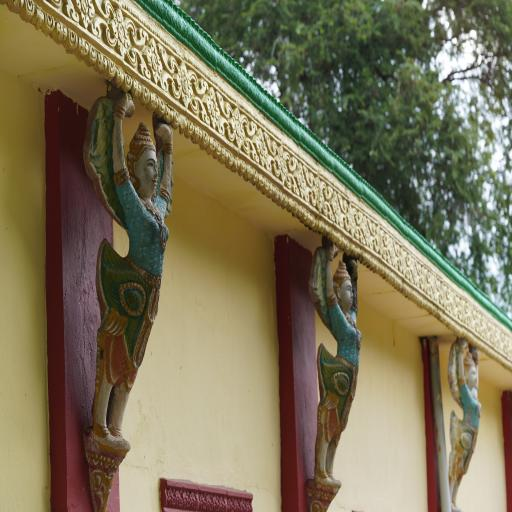hoa: (110, 7, 131, 59), (143, 35, 164, 85), (174, 59, 194, 109), (203, 84, 221, 128), (230, 106, 246, 150), (252, 126, 269, 166), (74, 0, 94, 29), (276, 144, 288, 183), (295, 160, 307, 199), (330, 190, 342, 224), (313, 177, 324, 211), (347, 202, 356, 236)
la: (124, 17, 149, 48), (127, 46, 151, 78), (157, 42, 180, 74), (93, 15, 116, 46), (187, 68, 209, 98), (216, 88, 236, 120), (160, 69, 180, 99), (190, 94, 210, 124), (217, 116, 236, 143), (243, 136, 260, 164), (94, 0, 116, 19), (264, 131, 280, 156), (42, 9, 55, 39), (242, 114, 257, 138), (53, 18, 66, 45), (104, 53, 116, 82), (63, 0, 78, 23), (66, 27, 78, 55), (266, 153, 280, 177), (286, 172, 300, 196), (20, 0, 34, 23), (76, 34, 88, 60), (285, 149, 298, 173), (33, 4, 44, 32), (86, 42, 97, 67), (322, 200, 335, 221), (338, 193, 351, 214), (114, 66, 124, 92), (8, 0, 24, 16), (321, 180, 333, 201), (132, 77, 142, 102), (149, 89, 159, 114), (155, 96, 166, 118), (304, 166, 316, 186), (96, 51, 106, 74), (163, 101, 173, 124), (192, 123, 202, 146), (140, 84, 150, 106), (200, 130, 210, 152), (339, 213, 351, 231), (123, 71, 132, 94), (185, 117, 194, 140), (219, 144, 228, 167), (306, 187, 316, 207), (164, 488, 174, 508), (172, 106, 180, 130), (190, 492, 200, 511), (174, 488, 183, 509), (178, 114, 187, 134), (244, 162, 253, 182), (208, 134, 216, 156), (213, 139, 221, 161), (238, 158, 246, 178), (256, 172, 264, 192), (182, 490, 190, 510), (232, 155, 240, 174), (226, 149, 233, 170), (206, 494, 214, 512), (212, 494, 220, 512), (219, 495, 227, 512), (251, 167, 258, 186), (200, 493, 207, 512), (267, 180, 274, 198), (272, 185, 279, 203), (276, 188, 283, 206), (287, 195, 294, 213), (309, 213, 316, 231), (318, 216, 325, 234), (339, 234, 346, 252), (281, 192, 288, 209), (297, 203, 304, 220), (354, 243, 361, 260), (262, 176, 268, 195), (292, 199, 298, 218), (350, 239, 356, 258), (304, 208, 310, 226), (360, 246, 366, 264), (328, 226, 335, 241), (245, 497, 252, 512), (301, 207, 307, 224), (324, 222, 330, 238), (336, 231, 342, 247), (234, 496, 240, 512), (344, 235, 349, 254), (228, 497, 234, 512), (240, 497, 246, 512), (333, 229, 338, 243)
than: (77, 90, 175, 512), (302, 234, 362, 512), (440, 332, 490, 512)
